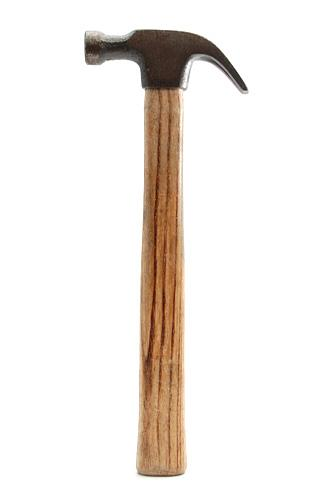hammer: (79, 23, 250, 479)
